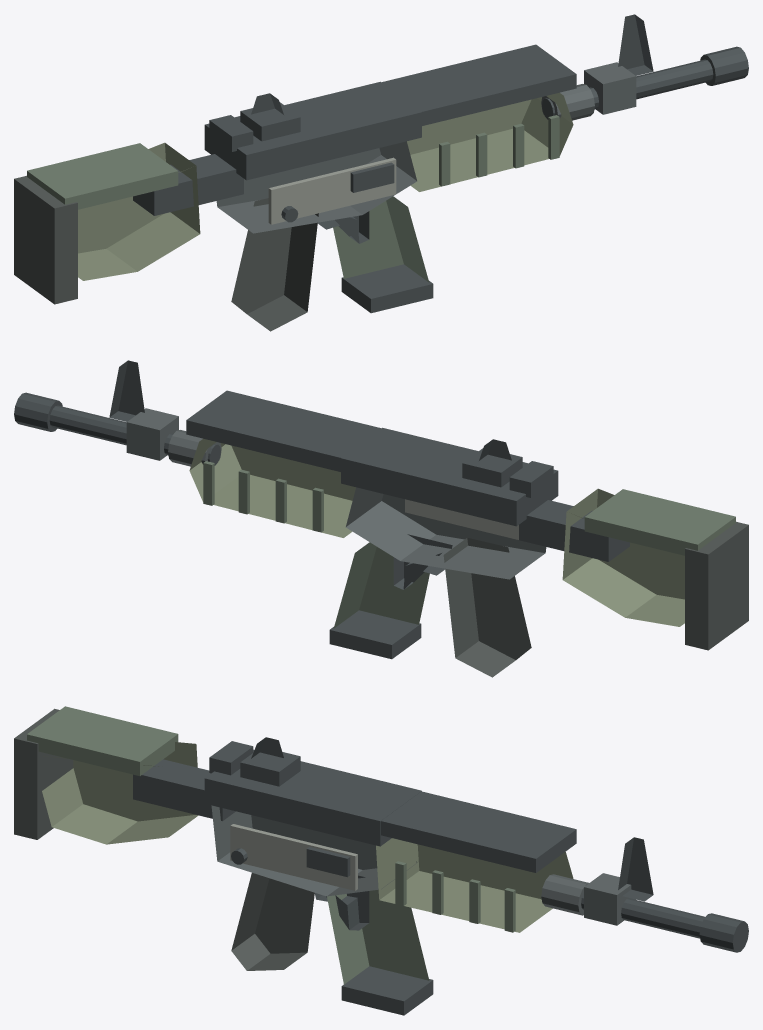
File: rifle.glb
3 renders of one model, top to bottom at view 1: azimuth 30°, elevation 25°; view 2: azimuth 150°, elevation 25°; view 3: azimuth 330°, elevation 25°, orthographic.
Visible parts, largest first — view 1: 05_upper_receiver, 15_upper_rail, 00_solid_stock, 14_handguard, 10_pistol_grip, 01_stock_butt, 02_stock_ridge, 04_receiver, 12_magazine, 06_side_panel, 03_buffer_tube, 13_magazine_foot (+9 smaller); view 2: 05_upper_receiver, 15_upper_rail, 04_receiver, 00_solid_stock, 14_handguard, 10_pistol_grip, 01_stock_butt, 02_stock_ridge, 12_magazine, 03_buffer_tube, 13_magazine_foot, 24_barrel (+8 smaller); view 3: 05_upper_receiver, 14_handguard, 15_upper_rail, 00_solid_stock, 02_stock_ridge, 10_pistol_grip, 12_magazine, 04_receiver, 01_stock_butt, 06_side_panel, 03_buffer_tube, 13_magazine_foot (+13 smaller).
Part boxes in pixels (left/top/right/bottom): 05_upper_receiver: left=204, top=81, right=421, bottom=180; 15_upper_rail: left=381, top=44, right=576, bottom=125; 00_solid_stock: left=78, top=142, right=200, bottom=280; 14_handguard: left=407, top=92, right=573, bottom=191; 10_pistol_grip: left=231, top=198, right=318, bottom=331; 01_stock_butt: left=14, top=175, right=77, bottom=304; 02_stock_ridge: left=27, top=143, right=178, bottom=209; 04_receiver: left=216, top=141, right=416, bottom=233; 12_magazine: left=333, top=196, right=429, bottom=282; 06_side_panel: left=268, top=157, right=396, bottom=224; 03_buffer_tube: left=133, top=154, right=243, bottom=215; 13_magazine_foot: left=341, top=264, right=433, bottom=313; 05_upper_receiver: left=341, top=427, right=558, bottom=526; 15_upper_rail: left=186, top=390, right=381, bottom=471; 04_receiver: left=346, top=487, right=546, bottom=579; 00_solid_stock: left=562, top=488, right=684, bottom=626; 14_handguard: left=189, top=438, right=355, bottom=537; 10_pistol_grip: left=443, top=537, right=531, bottom=677; 01_stock_butt: left=685, top=521, right=748, bottom=650; 02_stock_ridge: left=584, top=489, right=735, bottom=555; 12_magazine: left=333, top=542, right=429, bottom=628; 03_buffer_tube: left=519, top=500, right=629, bottom=561; 13_magazine_foot: left=329, top=610, right=421, bottom=659; 24_barrel: left=49, top=405, right=220, bottom=465; 05_upper_receiver: left=204, top=749, right=421, bottom=846; 14_handguard: left=376, top=838, right=573, bottom=932; 15_upper_rail: left=381, top=791, right=576, bottom=872; 00_solid_stock: left=42, top=742, right=198, bottom=844; 02_stock_ridge: left=27, top=706, right=178, bottom=775; 10_pistol_grip: left=231, top=873, right=314, bottom=970; 12_magazine: left=327, top=889, right=429, bottom=984; 04_receiver: left=211, top=805, right=417, bottom=896; 01_stock_butt: left=14, top=708, right=73, bottom=839; 06_side_panel: left=230, top=824, right=357, bottom=890; 03_buffer_tube: left=133, top=759, right=235, bottom=821; 13_magazine_foot: left=341, top=966, right=433, bottom=1015.
Size of the model in its own units: 1.81 by 0.5535 by 0.223.
